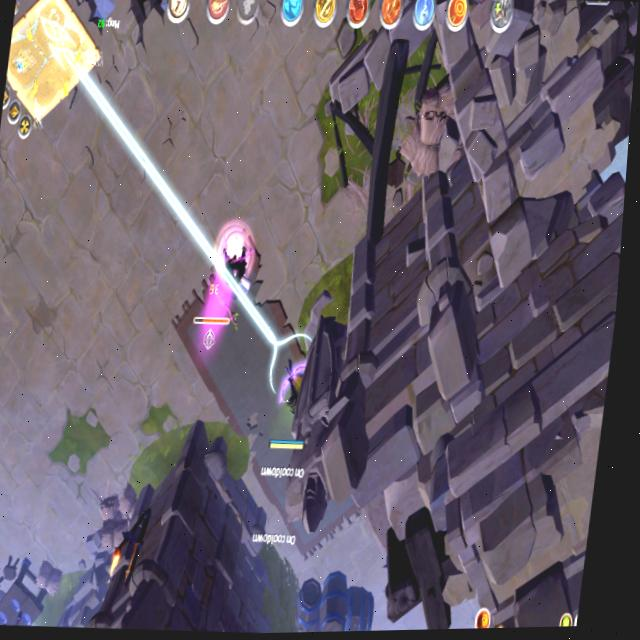ore: (186, 229, 262, 361)
red: (267, 369, 317, 458)
